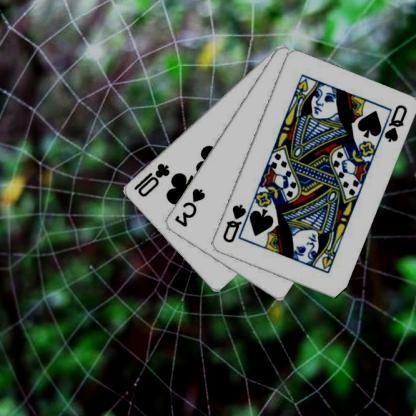10C: (132, 160, 173, 199)
3S: (173, 186, 208, 228)
QS: (221, 202, 249, 244), (383, 102, 410, 144)
